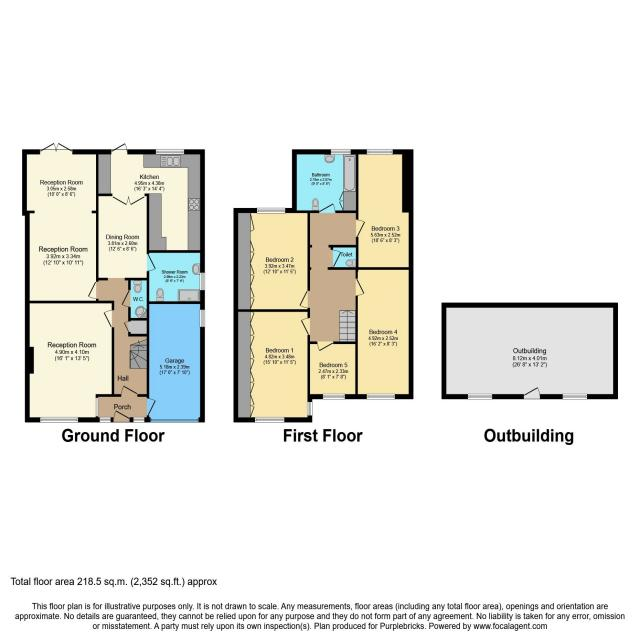DOOR: (113, 409, 130, 423), (110, 142, 128, 155), (298, 290, 310, 309), (330, 249, 342, 268), (103, 309, 115, 328), (318, 202, 336, 214), (87, 281, 99, 299), (146, 397, 157, 416), (120, 289, 131, 308), (146, 253, 157, 272), (121, 385, 138, 397), (316, 341, 334, 352), (355, 278, 365, 297), (300, 317, 310, 336), (356, 219, 366, 237)
DOUBLE DOOR: (39, 142, 73, 155), (111, 193, 145, 206)
ROOM: (22, 142, 99, 304), (96, 142, 206, 253), (24, 300, 115, 423), (233, 309, 313, 423), (233, 207, 310, 312), (355, 267, 414, 400), (355, 148, 414, 270), (146, 301, 205, 423), (307, 341, 358, 399)
WINDOW: (39, 416, 79, 423), (150, 418, 199, 423), (256, 207, 286, 214), (366, 393, 395, 400), (254, 417, 285, 423), (155, 149, 184, 155), (366, 149, 394, 155), (322, 393, 345, 400), (199, 309, 206, 328), (199, 272, 206, 291), (330, 149, 352, 155), (307, 402, 313, 416), (95, 397, 99, 417), (99, 417, 111, 423), (133, 417, 145, 423)
